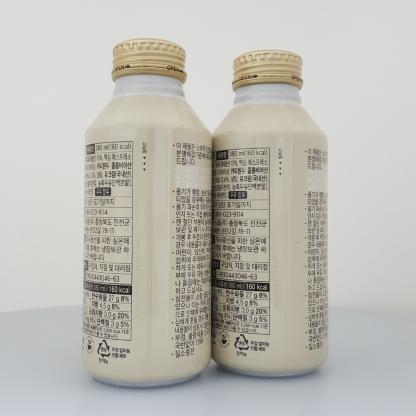-------TOP-----: (81, 38, 212, 388), (209, 49, 329, 378)
